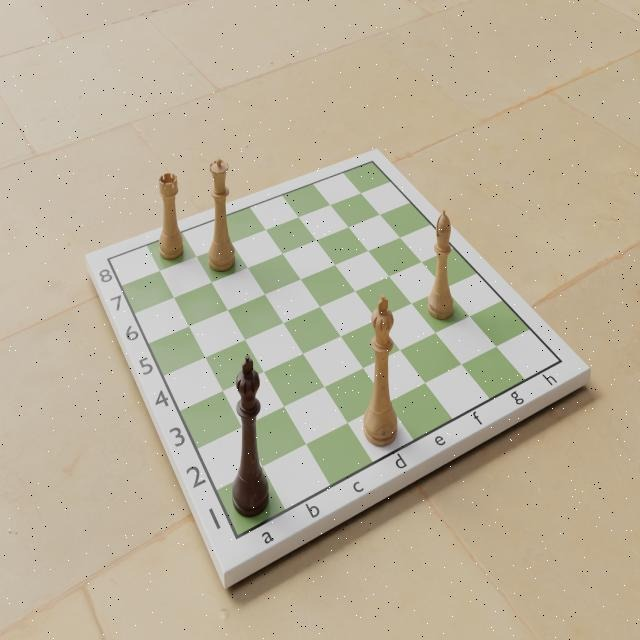black-king: (230, 351, 270, 520)
white-bishop: (423, 204, 461, 327)
white-king: (361, 293, 403, 457)
white-queen: (205, 146, 239, 278)
white-rook: (155, 163, 186, 262)
